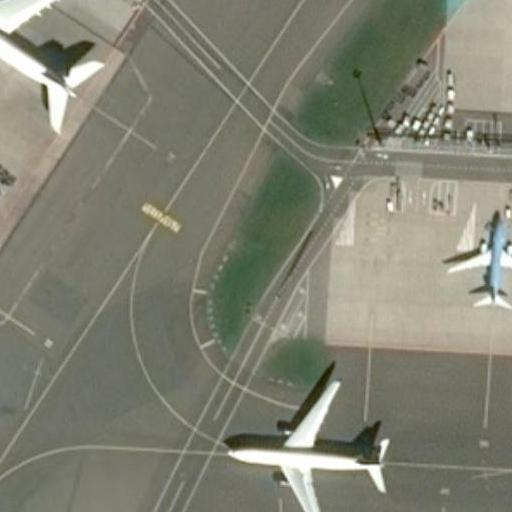Aircraft: (214, 363, 401, 512), (0, 0, 112, 152), (441, 206, 512, 314)
